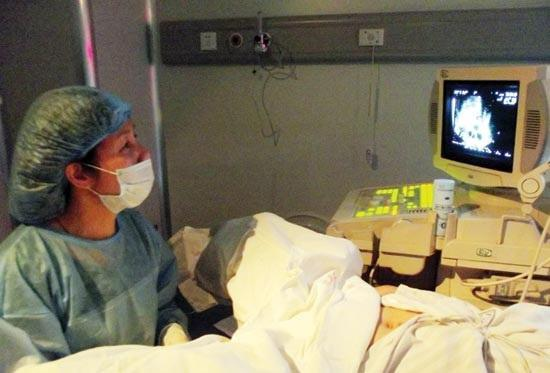WRONG: (73, 128, 158, 213)
